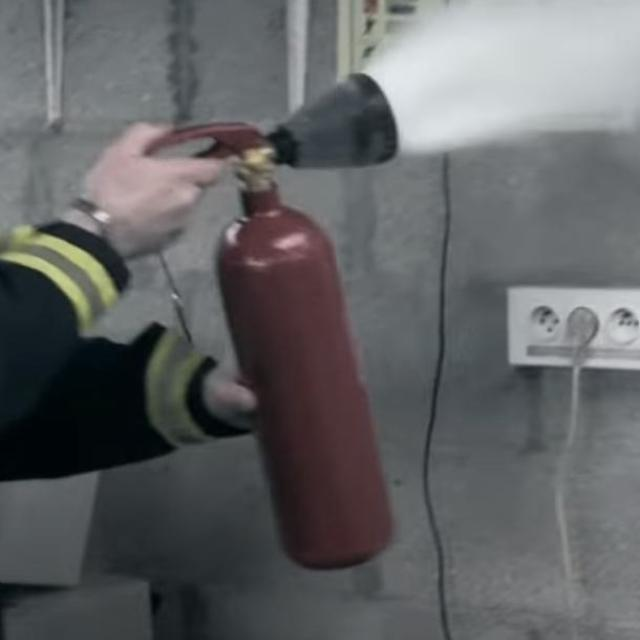fire_extinguisher: (122, 65, 418, 577)
